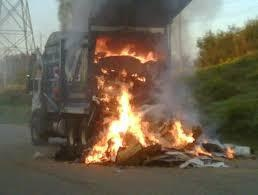fire: (85, 39, 159, 161), (162, 117, 213, 156)
